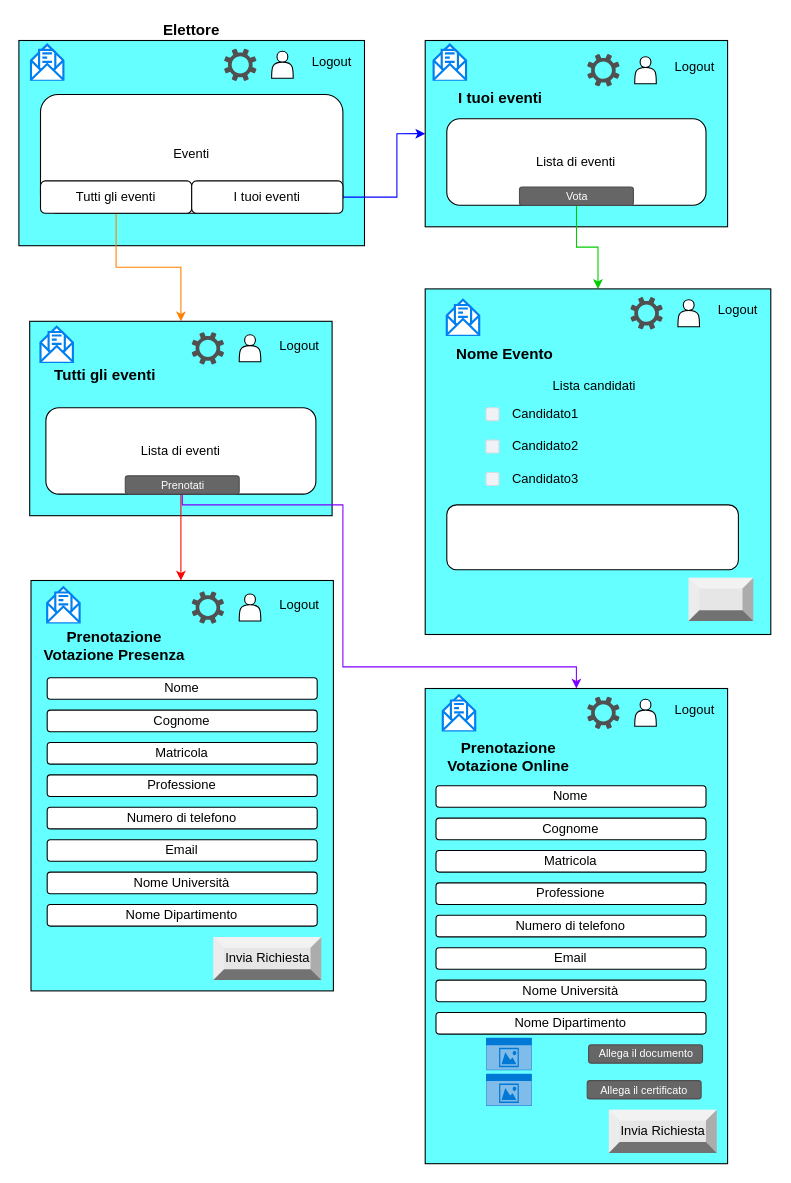
The diagram is 791 pixels wide and 1183 high, and some of its shapes have lost their labels. Each missing label, with the centre of its shape:
"Invia" belongs at point (720, 598).
"Regolamento" belongs at point (592, 537).
